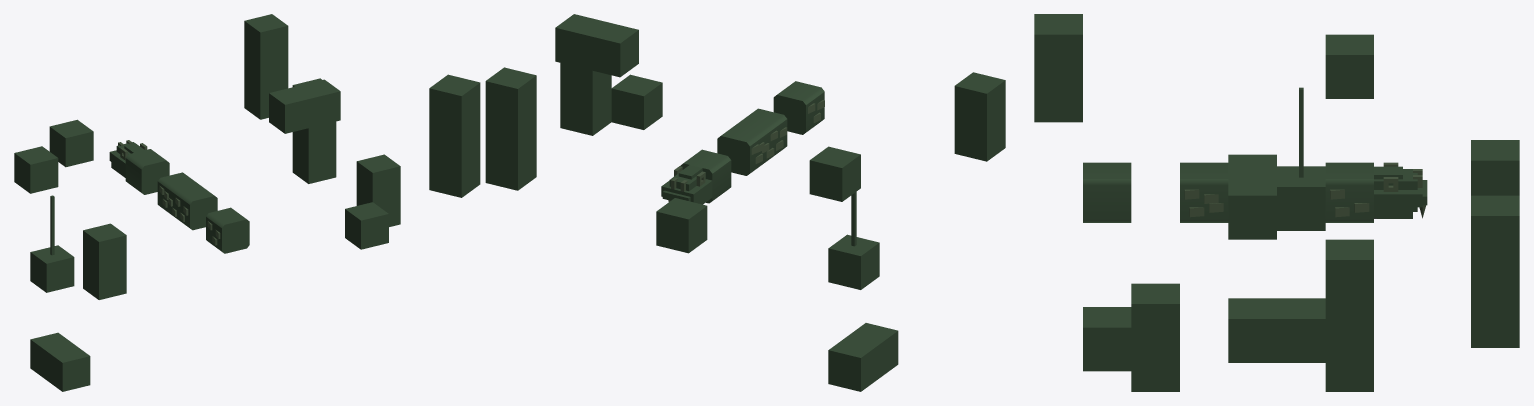
File: rolling_env.fbx
The picture shows the model from 3 angles, left to right: view 1: azimuth 30°, elevation 25°; view 2: azimuth 150°, elevation 25°; view 3: azimuth 270°, elevation 25°; orthographic projection. The views are drawn at different scales.
Visible parts, largest first — view 1: rolling_env; view 2: rolling_env; view 3: rolling_env.
Boxes of the visible parts, x1,y1,x2,y2 form: rolling_env: (14,14,400,391); rolling_env: (429,14,1005,391); rolling_env: (1034,14,1519,391).
Size of the model in its own units: 120 by 80 by 100.
Materials: 1 (1 with a texture image).
